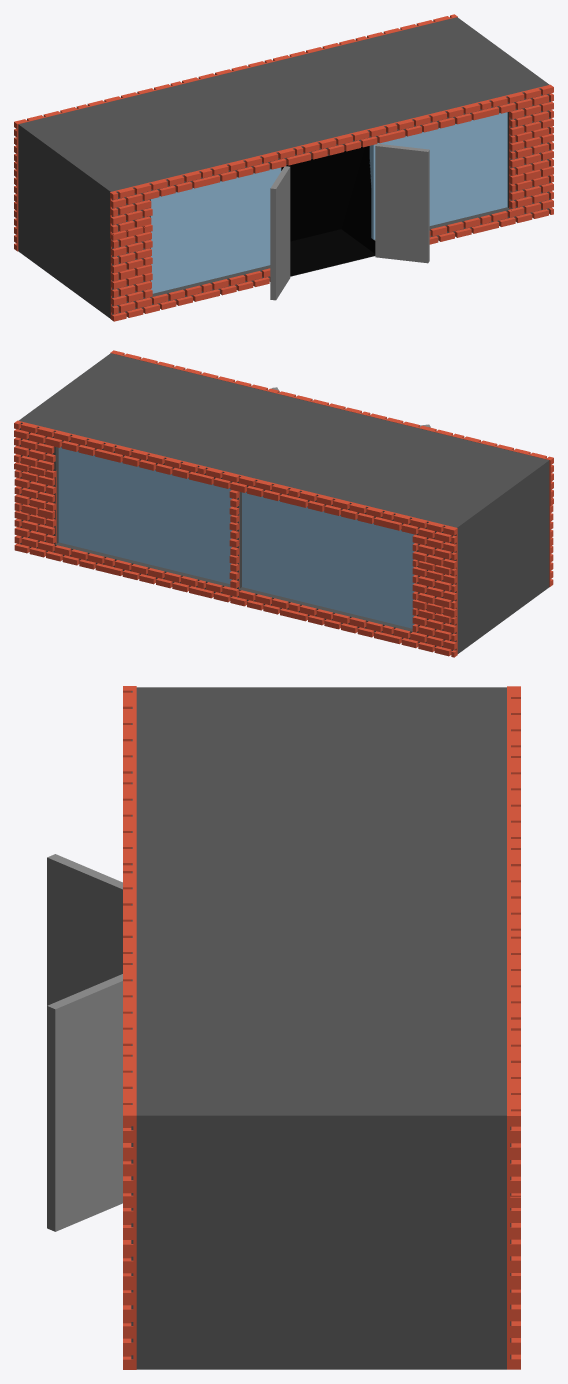
Rendered from Armazon1.fbx.
3 renders of one model, top to bottom at view 1: azimuth 30°, elevation 25°; view 2: azimuth 150°, elevation 25°; view 3: azimuth 270°, elevation 25°, orthographic. The views are drawn at different scales.
Parts seen in each view (by area): view 1: Cube, Cube.011, Cube.029, Cube.017, Cube.013, Cube.027, Cube.019, Cube.028, Cube.023, Cube.026, Cube.024, Cube.020 (+9 smaller); view 2: Cube, Cube.040, Cube.003, Cube.006, Cube.005, Cube.010, Cube.016, Cube.008, Cube.002, Cube.012, Cube.009, Cube.007 (+6 smaller); view 3: Cube, Cube.029, Cube.028, Cube.006, Cube.023, Cube.019, Cube.003, Cube.021, Cube.008, Cube.009, Cube.022, Cube.027 (+5 smaller).
Part boxes in pixels (x1,y1,x2,y2): Cube: (18,17,550,318); Cube.011: (151,112,507,293); Cube.029: (375,143,429,263); Cube.017: (281,147,364,241); Cube.013: (110,258,208,321); Cube.027: (110,169,208,240); Cube.019: (484,160,553,230); Cube.028: (270,166,290,300); Cube.023: (483,84,553,143); Cube.026: (509,126,553,191); Cube.024: (110,224,152,288); Cube.020: (204,146,302,185); Cube: (18,353,549,653); Cube.040: (58,447,414,628); Cube.003: (14,496,109,573); Cube.006: (14,420,110,478); Cube.005: (387,593,457,657); Cube.010: (386,511,457,576); Cube.016: (412,559,457,624); Cube.008: (199,465,296,523); Cube.002: (199,548,294,618); Cube.012: (14,462,56,525); Cube.009: (293,489,389,527); Cube.007: (108,443,205,482); Cube: (131,687,511,1369); Cube.029: (47,974,122,1231); Cube.028: (47,854,122,1005); Cube.006: (507,1024,520,1207); Cube.023: (123,1050,136,1207); Cube.019: (123,1256,136,1369); Cube.003: (507,1261,520,1369); Cube.021: (123,866,136,958); Cube.008: (507,843,520,935); Cube.009: (507,751,520,843); Cube.022: (123,958,136,1050); Cube.027: (123,686,136,777).
Size of the model in its own units: 225 by 63.42 by 105.
